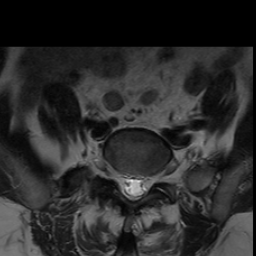CCS_normal: (130, 166, 138, 206)
LFS_normal: (148, 165, 159, 192)
LLS_normal: (138, 167, 147, 202)
RFS_normal: (110, 160, 120, 193)
RLS_normal: (119, 166, 130, 203)
